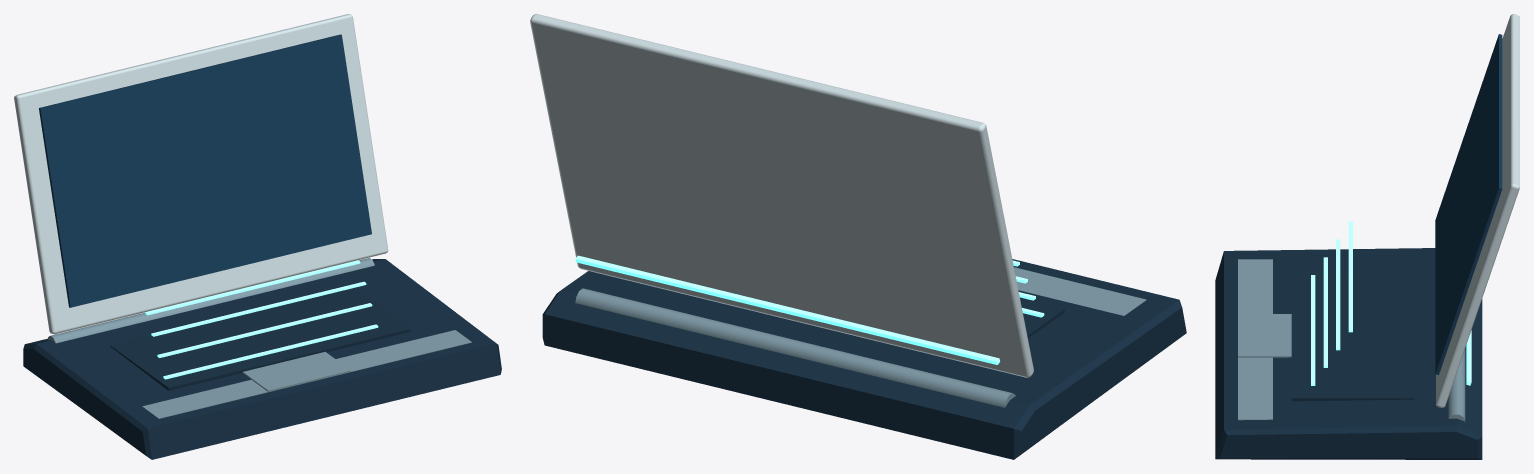
The model's file is laptop.glb.
3 views of the same model, side by side, from view 1: azimuth 30°, elevation 25°; view 2: azimuth 150°, elevation 25°; view 3: azimuth 270°, elevation 25° (orthographic). The views are drawn at different scales.
Visible parts, largest first — view 1: atelier-cyber-laptop; view 2: atelier-cyber-laptop; view 3: atelier-cyber-laptop.
Boxes of the visible parts, x1,y1,x2,y2 form: atelier-cyber-laptop: (14, 14, 501, 459); atelier-cyber-laptop: (530, 14, 1186, 459); atelier-cyber-laptop: (1215, 14, 1519, 459).
Size of the model in its own units: 1.43 by 1 by 1.01.
